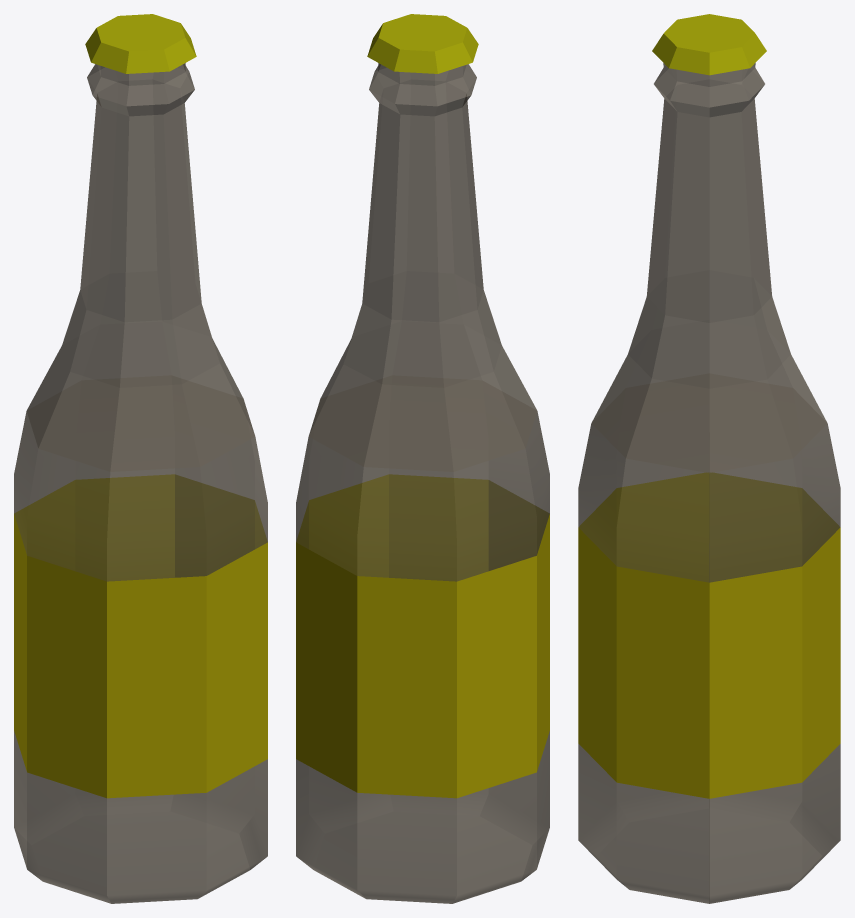
Rendered from BrownBote.fbx.
3 views of the same model, side by side, from view 1: azimuth 30°, elevation 25°; view 2: azimuth 150°, elevation 25°; view 3: azimuth 270°, elevation 25° (orthographic).
Visible parts, largest first — view 1: Glass_Bottle; view 2: Glass_Bottle; view 3: Glass_Bottle.
Boxes of the visible parts, <box> form: Glass_Bottle: <box>14,14,267,903</box>; Glass_Bottle: <box>296,14,549,903</box>; Glass_Bottle: <box>578,14,840,903</box>.
Bounding box in the file's own units: 0.8964 × 3.1 × 0.8964.
